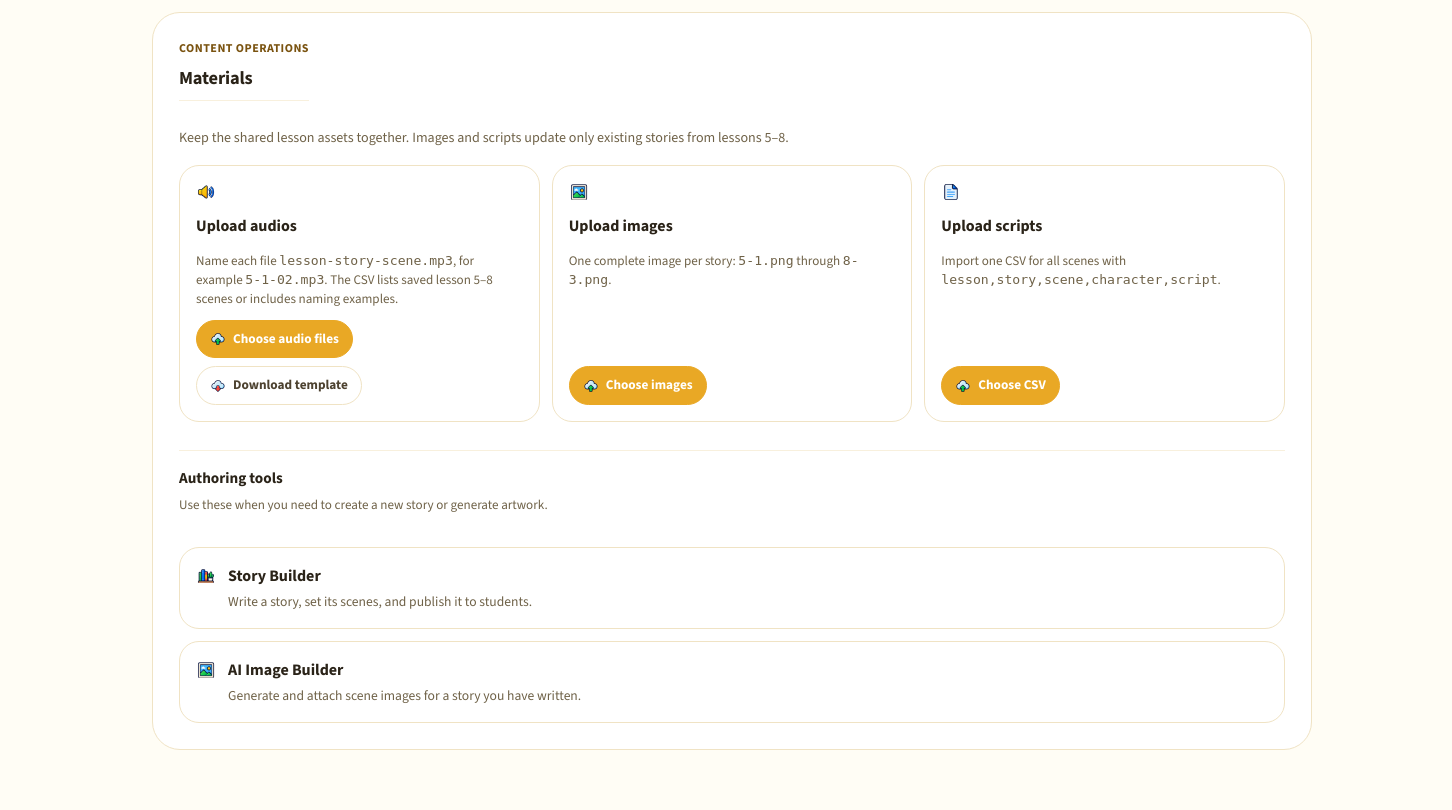
Test case: Admin Materials bulk imports › keeps the three upload actions visible inside Create Story Activity
The width and height of the screenshot is (1452, 810).
Click the button "Story Builder" at (274, 575), box [179,547,1285,629]
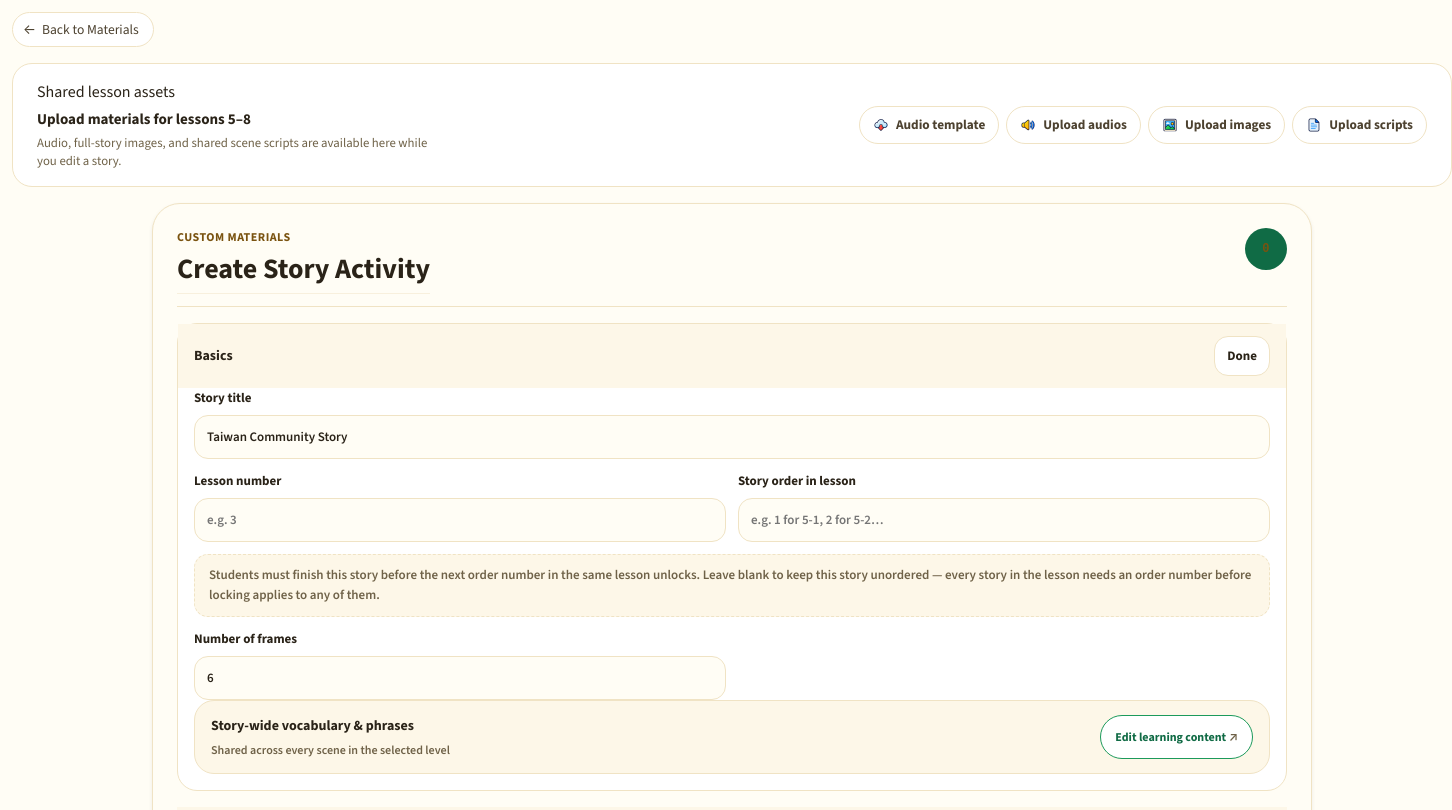
expect the button "Upload images" is shown: met, box [1148,106,1285,144]
expect the element named "Material uploads" is shown: met, box [12,63,1451,187]
